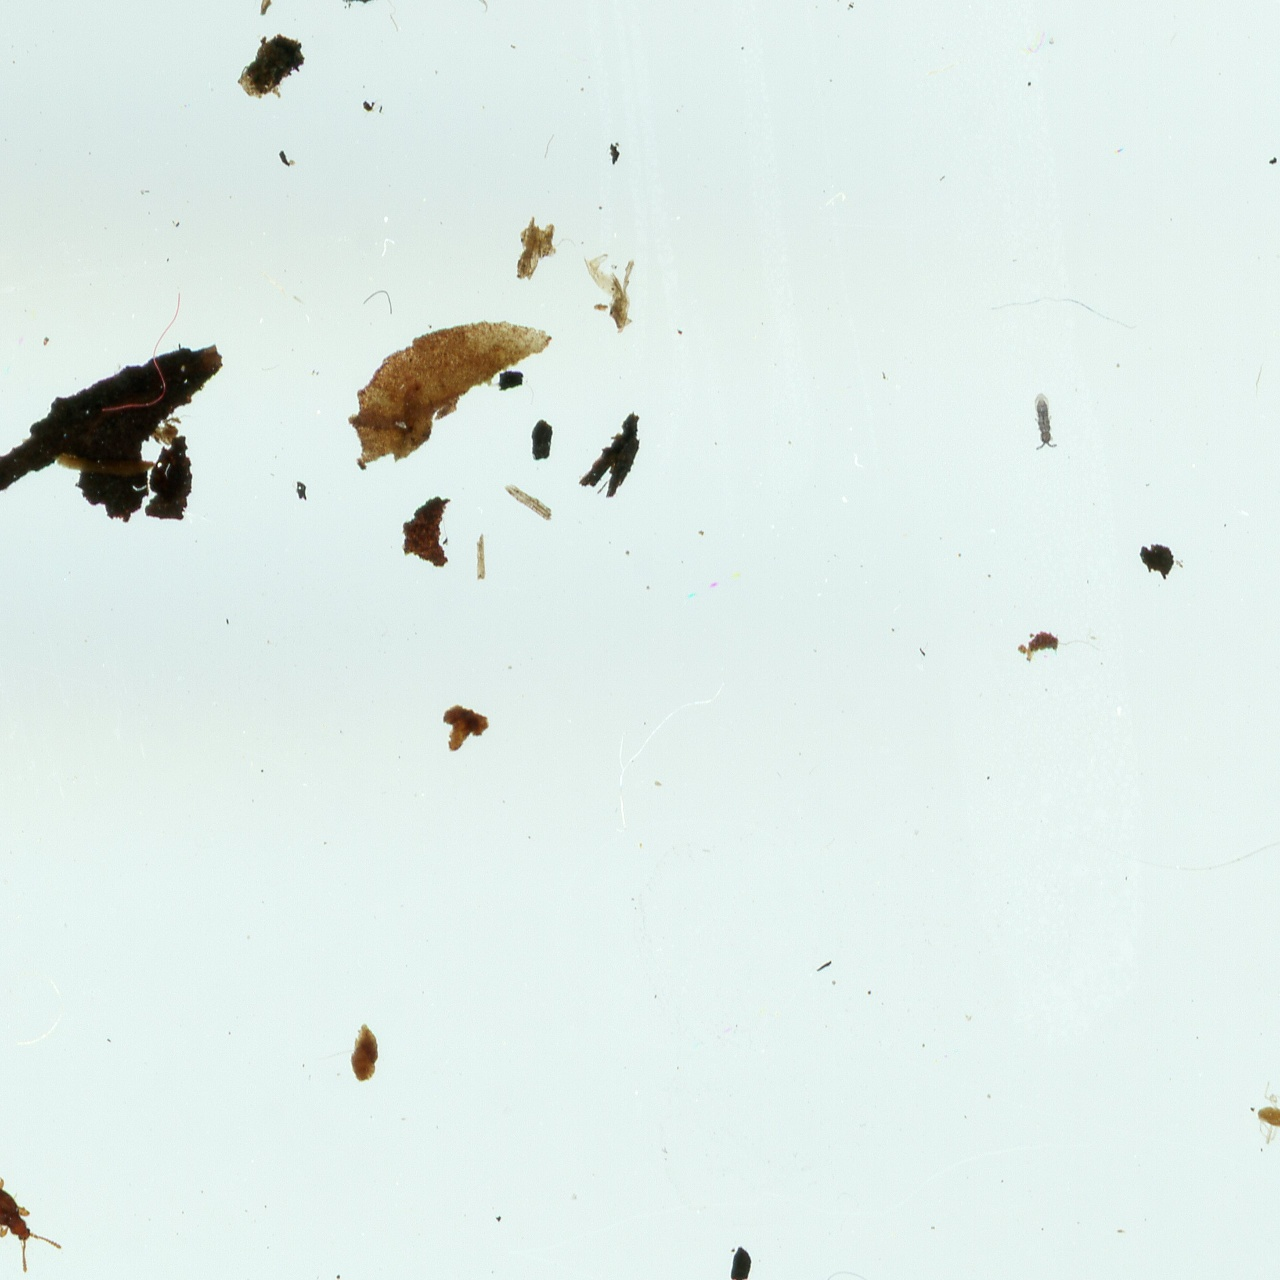arthropod: (0, 1145, 70, 1280), (1248, 1078, 1280, 1157), (1028, 388, 1062, 451), (434, 0, 506, 18)
